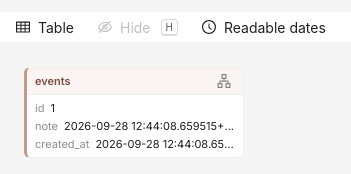
Scenario: the Readable dates toggle shows the dates of date fields on cards and at the side, and not other fields
This screenshot has width=351, height=174.
Expected: the text "2026-09-28 12:44:08.659515+00" is shown 2 times, [64, 117, 235, 135]; [95, 135, 235, 153]
What coordinates should you click on to do the following:
click the button "Readable dates"
I would click on:
 (264, 27)
Its box is [194, 15, 334, 39].
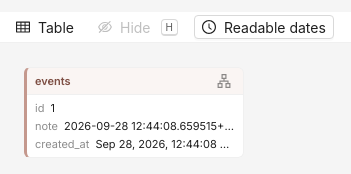
Expected: the text "2026-09-28 12:44:08.659515+00" is shown once, [64, 117, 235, 135]
Expected: the text "Sep 28, 2026, 12:44:08 PM UTC" is shown, [95, 135, 235, 153]
